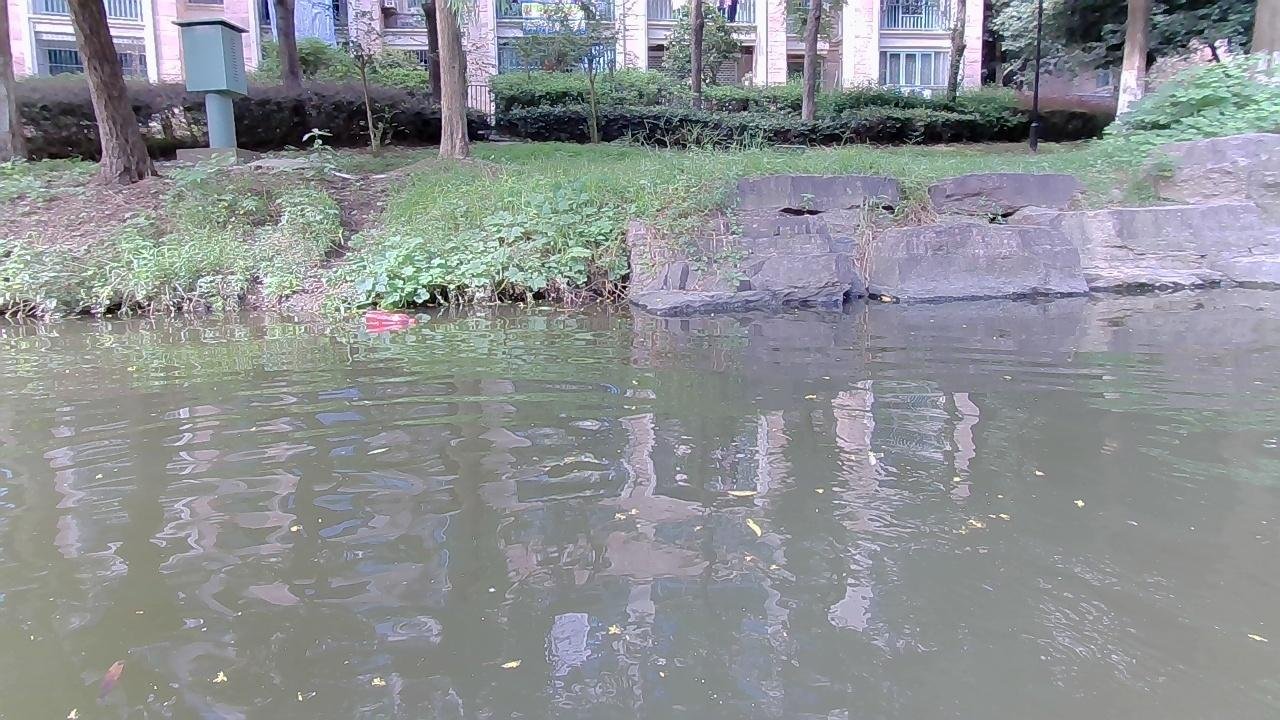bottle: (357, 309, 427, 328)
